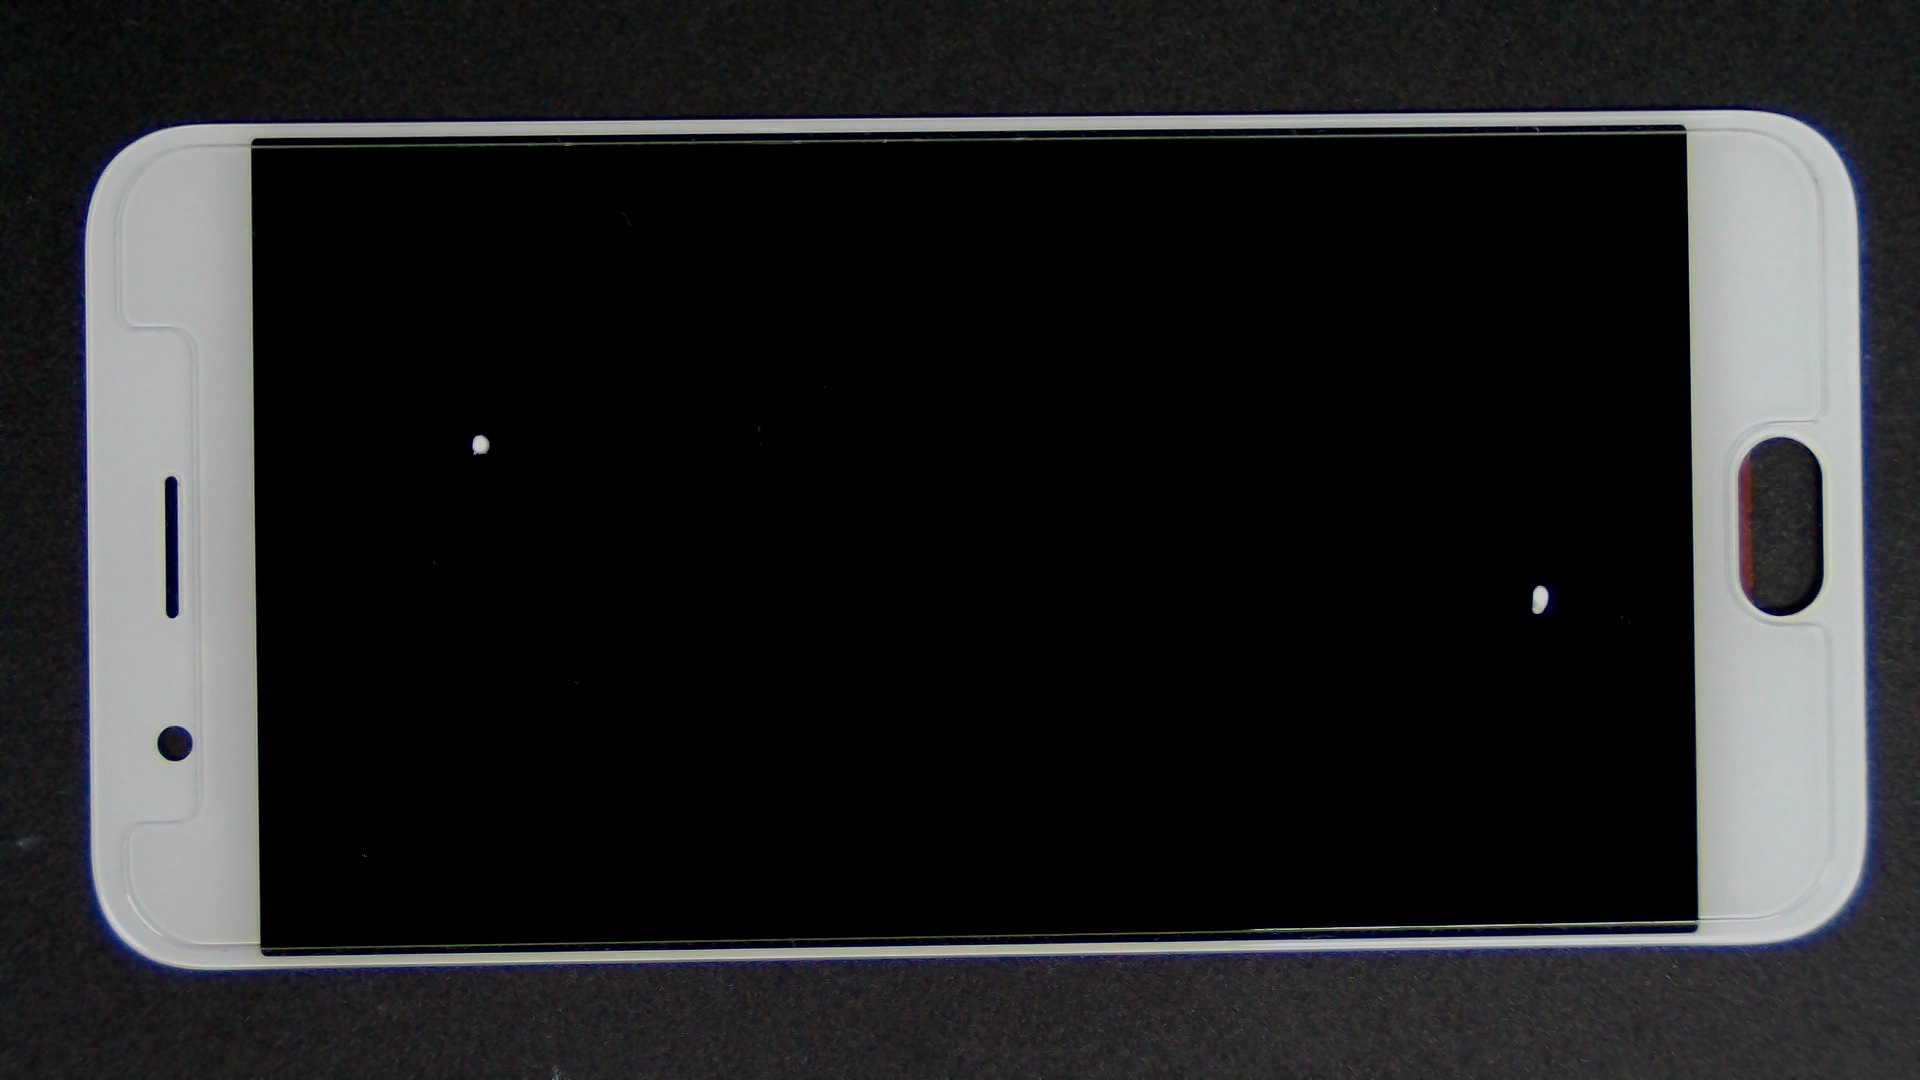oil: (770, 291, 1920, 877), (239, 216, 715, 651)
